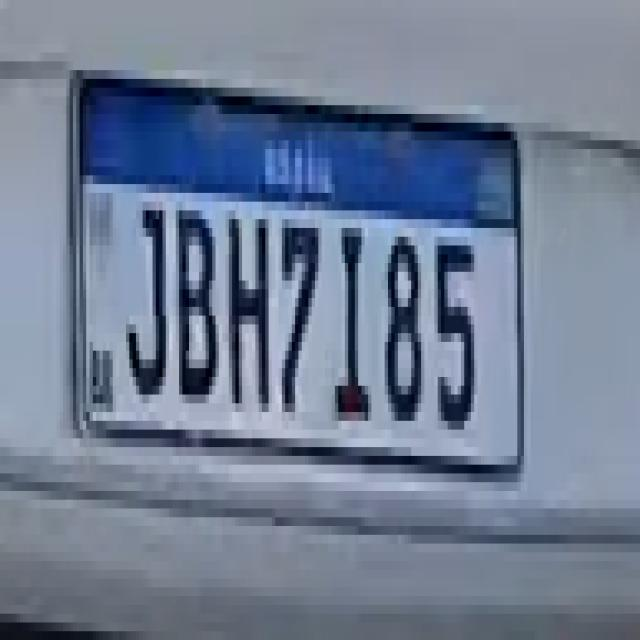Placa_mercosul_carro: (69, 64, 528, 484)
